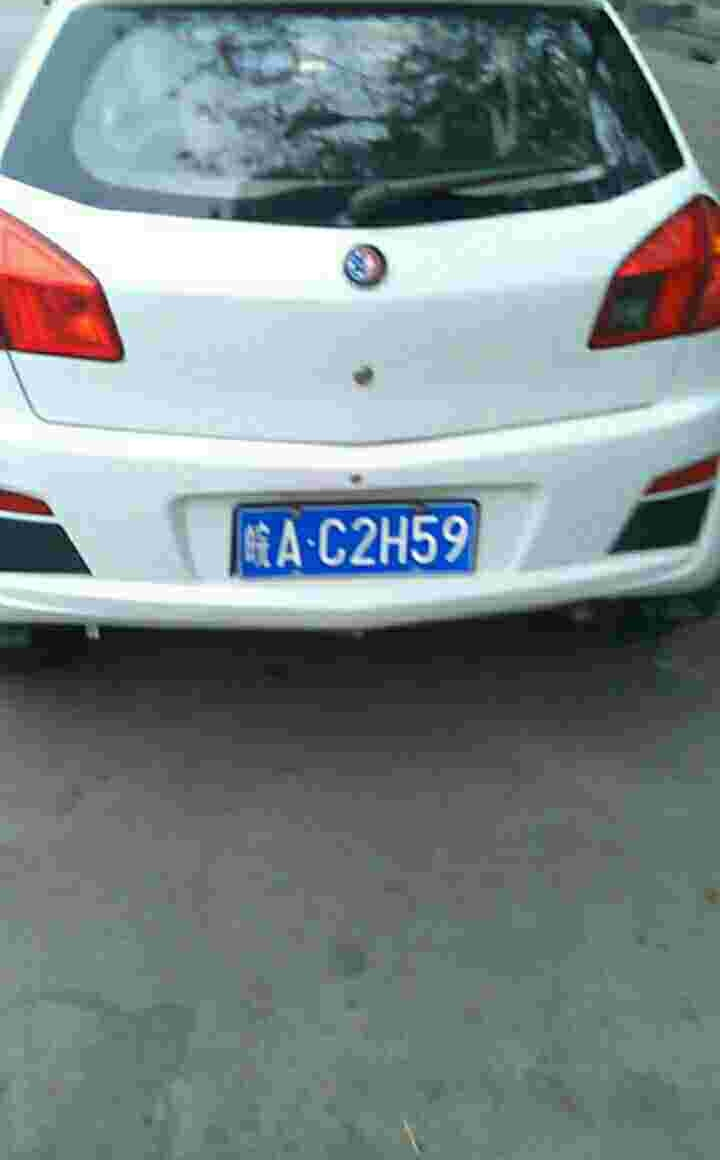license_plate: (241, 498, 481, 575)
